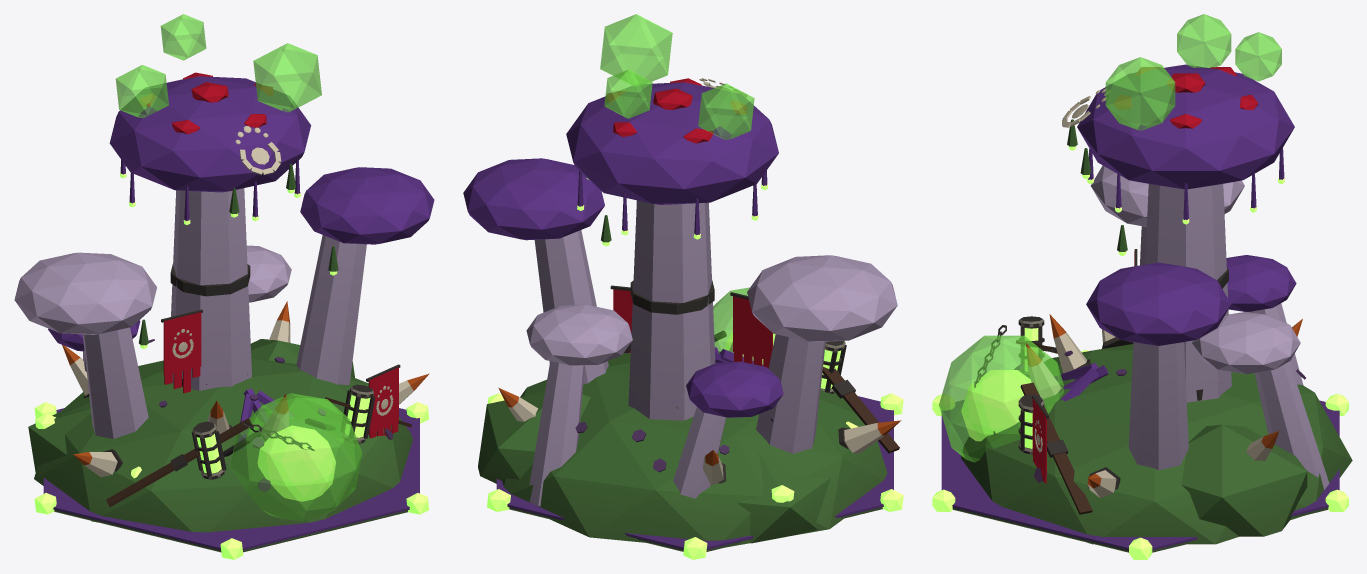
3 renders of one model, left to right at view 1: azimuth 30°, elevation 25°; view 2: azimuth 150°, elevation 25°; view 3: azimuth 270°, elevation 25°, orthographic. The views are drawn at different scales.
Visible parts, largest first — view 1: sb_hq; view 2: sb_hq; view 3: sb_hq.
Boxes of the visible parts, bbox=[...] form: sb_hq: bbox=[14, 14, 434, 559]; sb_hq: bbox=[463, 14, 903, 559]; sb_hq: bbox=[932, 14, 1352, 559].
Bounding box in the file's own units: 10.66 × 10.5 × 9.26.
